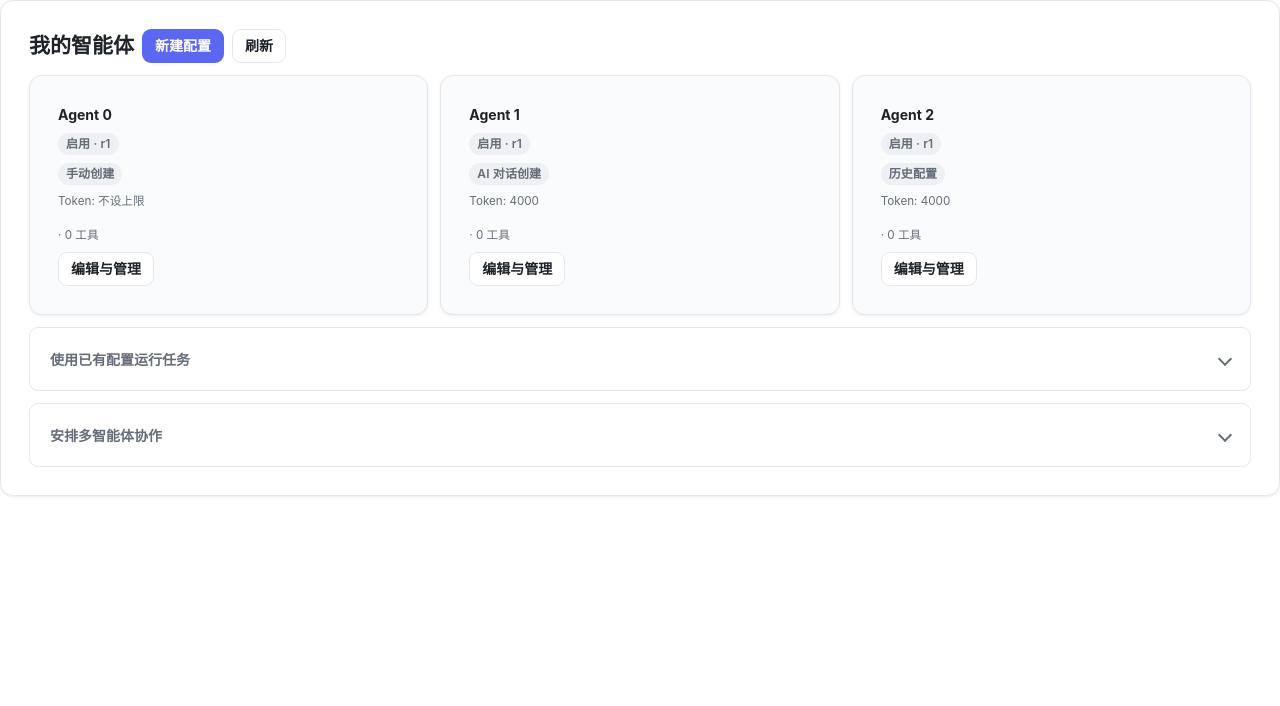
Scenario: distinguishes creation sources without relabeling legacy definitions
Click the button "编辑与管理" below "AI 对话创建". click: (517, 269)
box: [469, 252, 565, 286]
(page scrolled)
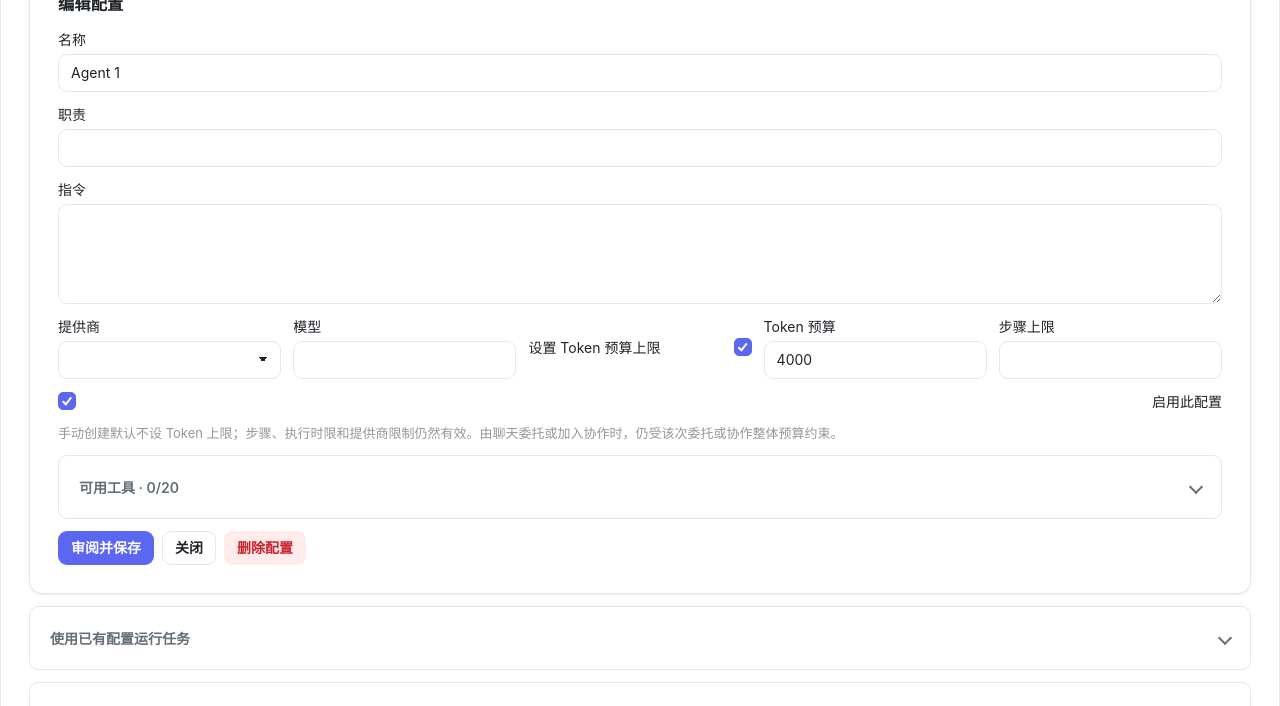
Result: the number field labelled "Token 预算" holds "4000" at [764, 341, 987, 379]
